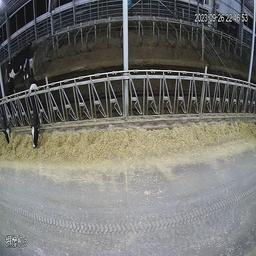cow: (26, 82, 48, 148), (6, 39, 33, 80), (3, 77, 16, 146)
